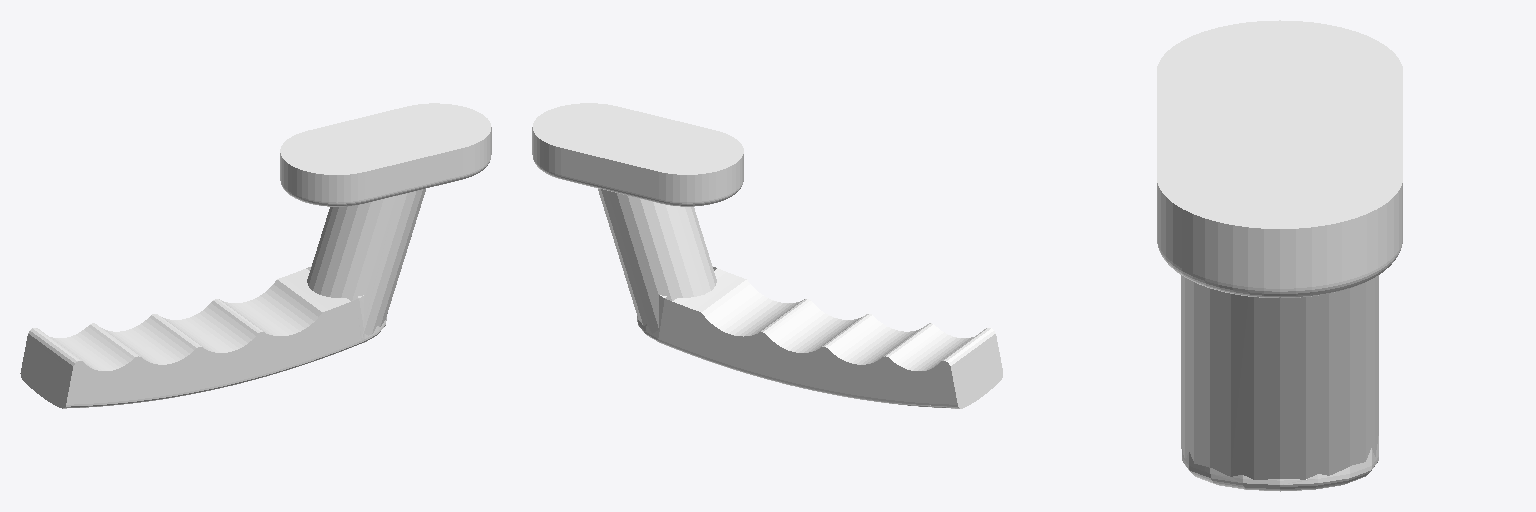
URDF robot description (window):
<?xml version="1.0" ?>
<robot name="window">
	<link name="base"/>
	<link name="link_0">
		<visual name="out-frame">
			<origin xyz="0 0 0"/>
			<geometry>
				<mesh filename="texture_dae/untitled.dae" scale="0.5 0.5 0.5"/>
			</geometry>
		</visual>
		<collision>
			<origin xyz="0 0 0"/>
			<geometry>
				<mesh filename="texture_dae/untitled.dae" scale="0.5 0.5 0.5"/>
			</geometry>
		</collision>
	</link>
	<joint name="joint_0" type="fixed">
		<origin rpy="1.570796326794897 0 -1.570796326794897" xyz="0 0 0"/>
		<child link="link_0"/>
		<parent link="base"/>
	</joint>
	<link name="link_1">
		<visual name="surf-board">
			<origin xyz="0.30546158315543975 -0.5833843402065071 0"/>
			<geometry>
				<mesh filename="texture_dae/untitled1.dae" scale="0.5 0.5 0.5"/>
			</geometry>
		</visual>
		<collision>
			<origin xyz="0.30546158315543975 -0.5833843402065071 0"/>
			<geometry>
				<mesh filename="texture_dae/untitled1.dae" scale="0.5 0.5 0.5"/>
			</geometry>
		</collision>
	</link>
	<joint name="joint_1" type="revolute">
		<origin xyz="-0.30546158315543975 0.5833843402065071 0"/>
		<axis xyz="0 -1 0"/>
		<child link="link_1"/>
		<parent link="link_0"/>
		<limit lower="0" upper="1.5079644737231006"/>
	</joint>
	<link name="link_2">
		<visual name="handle">
			<origin xyz="0 0 0"/>
			<geometry>
				<mesh filename="texture_dae/9969525-handle.dae" scale="1.2798660714082932 1.2798660714082932 1.2798660714082932"/>
			</geometry>
		</visual>
		<collision>
			<origin xyz="0 0 0"/>
			<geometry>
				<mesh filename="texture_dae/9969525-handle.dae" scale="1.2798660714082932 1.2798660714082932 1.2798660714082932"/>
			</geometry>
		</collision>
	</link>
	<joint name="joint_2" type="revolute">
		<origin xyz="0 0 0"/>
		<child link="link_2"/>
		<parent link="link_3"/>
		<axis xyz="0 0 1"/>
		<limit lower="0" upper="1.5079644737231006"/>
	</joint>
	<link name="link_3">
		<visual name="lock">
			<origin xyz="0 0 0"/>
			<geometry>
				<mesh filename="texture_dae/9969525-lock.dae" scale="1.2798660714082932 1.2798660714082932 1.2798660714082932"/>
			</geometry>
		</visual>
		<collision>
			<origin xyz="0 0 0"/>
			<geometry>
				<mesh filename="texture_dae/9969525-lock.dae" scale="1.2798660714082932 1.2798660714082932 1.2798660714082932"/>
			</geometry>
		</collision>
	</link>
	<joint name="joint_3" type="fixed">
		<origin xyz="0.57960002006893 -0.5833843402065071 0.028971898873196622"/>
		<child link="link_3"/>
		<parent link="link_1"/>
	</joint>
</robot>

--- Render facts (derived) ---
Views: 3 orthographic renders of the robot side by side, from view 1: azimuth 30°, elevation 25°; view 2: azimuth 150°, elevation 25°; view 3: azimuth 270°, elevation 25°.
Robot: window — 5 links, 4 joints (2 revolute, 2 fixed); root link base; default pose: every joint at zero.
Visible links, largest first — view 1: link_2, link_3; view 2: link_2, link_3; view 3: link_3, link_2.
Link boxes in pixels (x1,y1,x2,y2): link_2: (20,189,425,408); link_3: (280,103,491,206); link_2: (598,189,1002,408); link_3: (532,103,743,206); link_3: (1157,20,1402,297); link_2: (1181,275,1378,491).
Size in the robot's own frame: 0.173 by 0.0384 by 0.0719 metres.
2 mesh visuals loaded from 4 distinct referenced files (2 Collada DAE); not drawn: 2 (reference not matched to a file when rendering).
